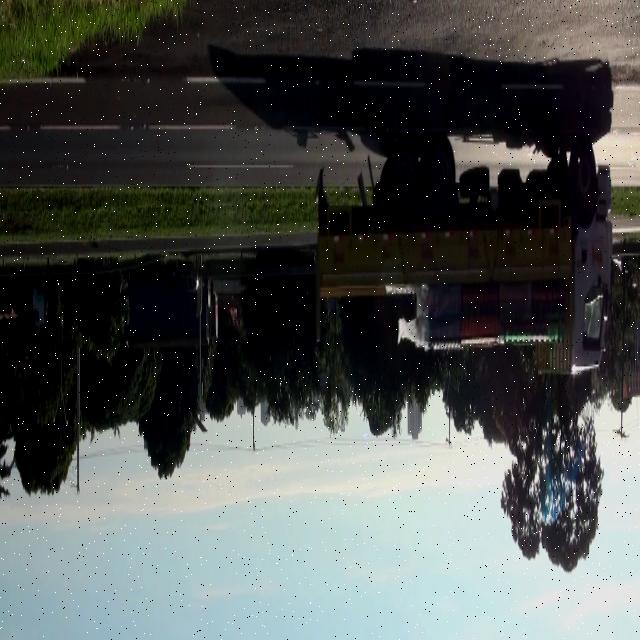-axle: (565, 136, 600, 222), (384, 139, 419, 216), (425, 134, 457, 217)
